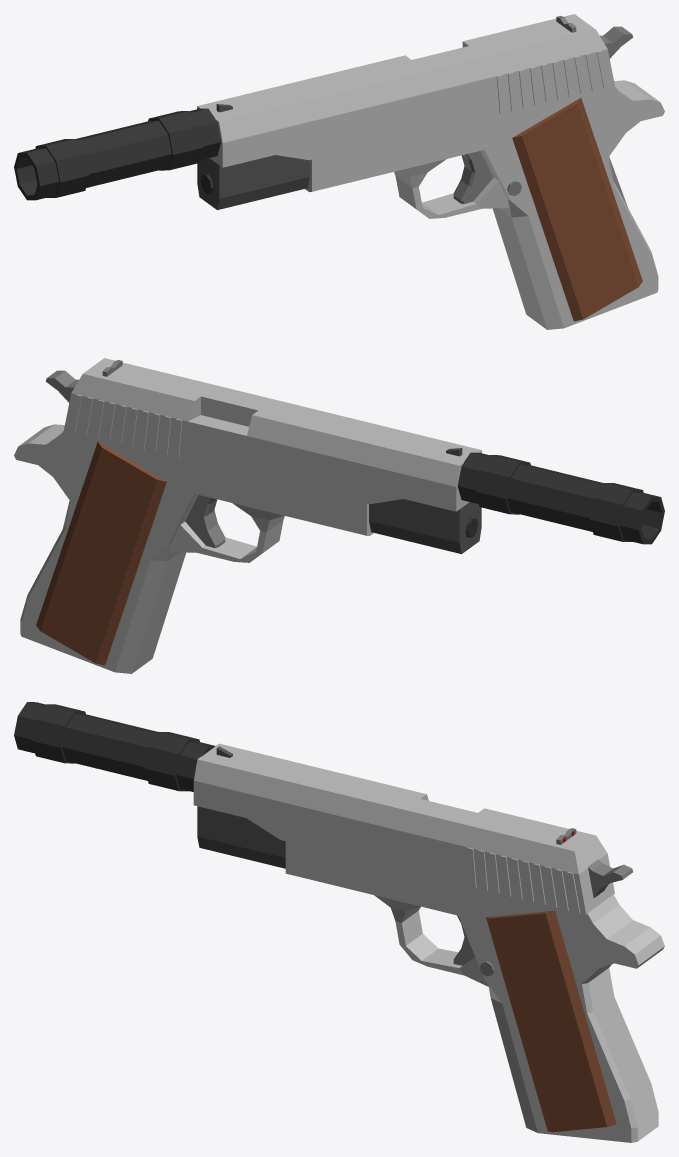
Rendered from Silencieux.fbx.
The picture shows the model from 3 angles, top to bottom: view 1: azimuth 30°, elevation 25°; view 2: azimuth 150°, elevation 25°; view 3: azimuth 330°, elevation 25°; orthographic projection.
Parts seen in each view (by area): view 1: Cube, Cube.002, Cube.004, Cylinder.003, Cube.001, Cube.003, Plane; view 2: Cube, Cube.002, Cube.005, Cylinder.003, Cube.001, Cube.003, Plane; view 3: Cube, Cube.002, Cube.004, Cylinder.003, Cube.001, Plane.
Boxes of the visible parts, box(x1,y1,x2,y2) form: Cube: box(197, 14, 614, 167); Cube.002: box(305, 80, 664, 329); Cube.004: box(512, 98, 642, 321); Cylinder.003: box(14, 108, 221, 200); Cube.001: box(197, 155, 309, 210); Cube.003: box(453, 151, 493, 204); Plane: box(600, 26, 633, 58); Cube: box(64, 358, 481, 511); Cube.002: box(14, 424, 373, 673); Cube.005: box(36, 442, 166, 665); Cylinder.003: box(457, 452, 664, 544); Cube.001: box(369, 499, 481, 554); Cube.003: box(185, 495, 225, 548); Plane: box(45, 370, 78, 402); Cube: box(193, 743, 614, 914); Cube.002: box(285, 841, 664, 1142); Cube.004: box(486, 910, 616, 1132); Cylinder.003: box(14, 702, 215, 791); Cube.001: box(197, 806, 285, 868); Plane: box(588, 859, 632, 897).
Size of the model in its own units: 1377 by 624 by 121.
